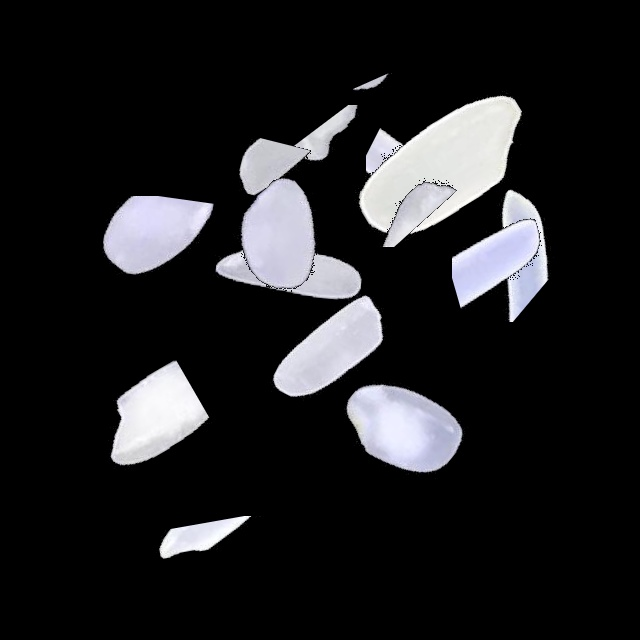Broken: (27, 196, 277, 355), (0, 351, 250, 508), (354, 178, 604, 322), (215, 80, 338, 330), (452, 144, 571, 394), (366, 44, 481, 294), (250, 149, 500, 247), (123, 516, 373, 609), (238, 105, 488, 195), (275, 72, 525, 158)
Full: (162, 145, 412, 395), (276, 300, 526, 550), (157, 110, 407, 360), (318, 41, 568, 291), (209, 222, 459, 472)
